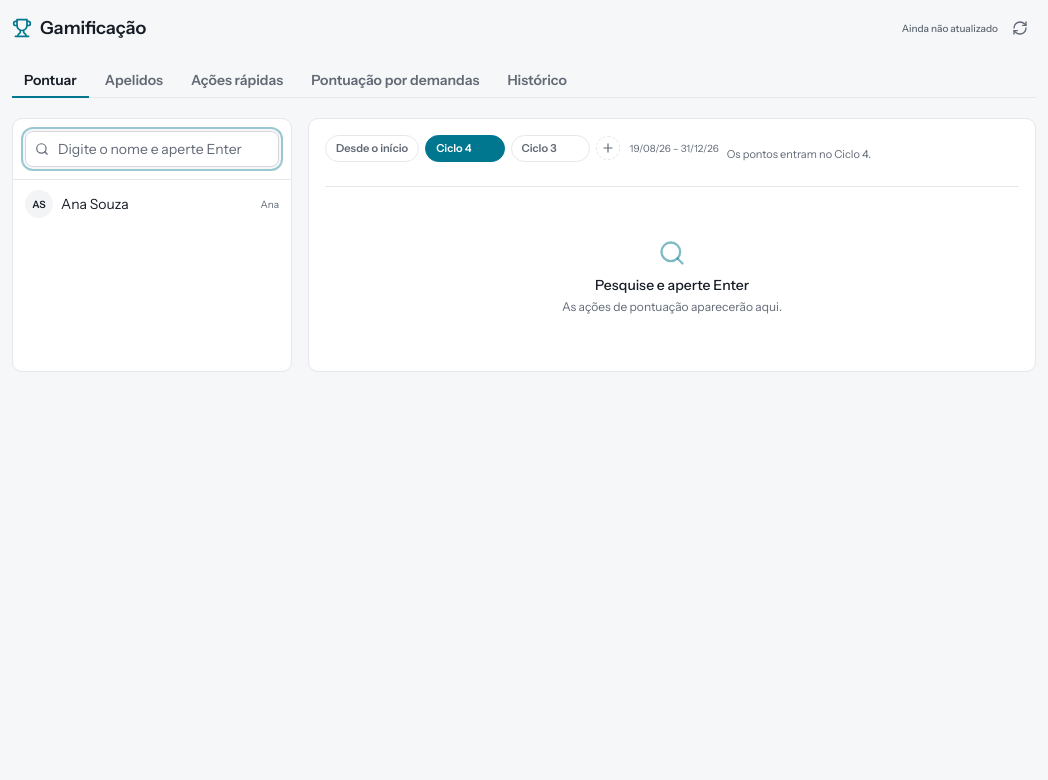
it: pontos por ciclo na tela de pontuar › com um ciclo filtrado, destaca quanto a pessoa tem nele
The image size is (1048, 780).
Type "Ana" into the field with placeholder "Digite o nome e aperte Enter" at (152, 149), box 25,131 -> 279,167
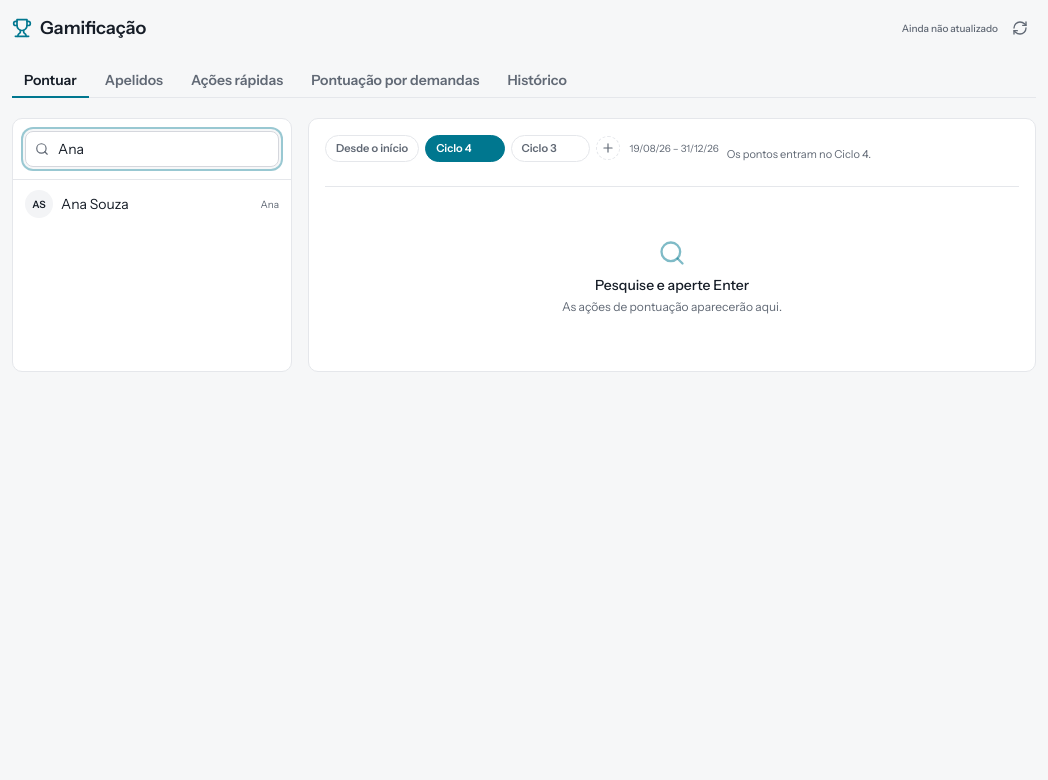
Press Enter in the field with placeholder "Digite o nome e aperte Enter", box 25,131 -> 279,167
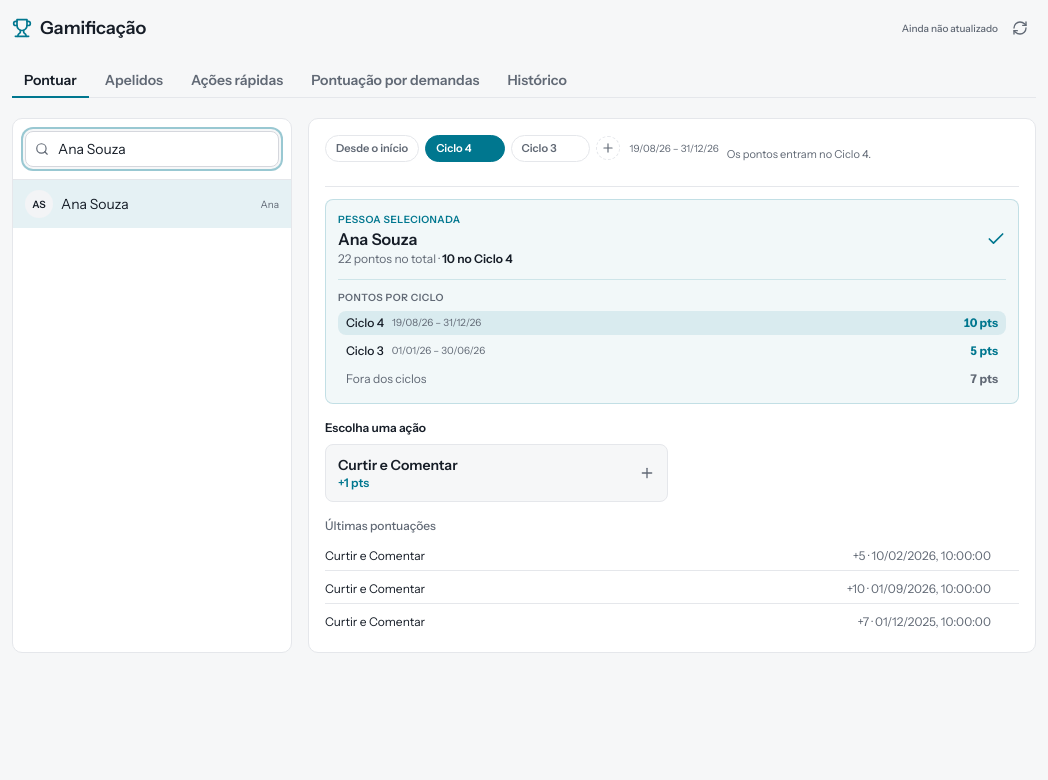
Check: the text "10 no Ciclo 4" is shown, box 442,250 -> 513,266
